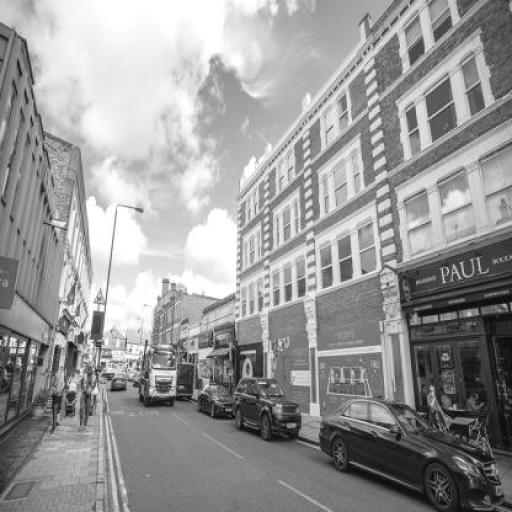street light: (94, 203, 144, 403), (143, 303, 154, 373)
